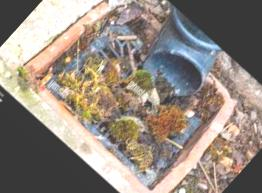Blocked drain: (0, 0, 260, 193)
